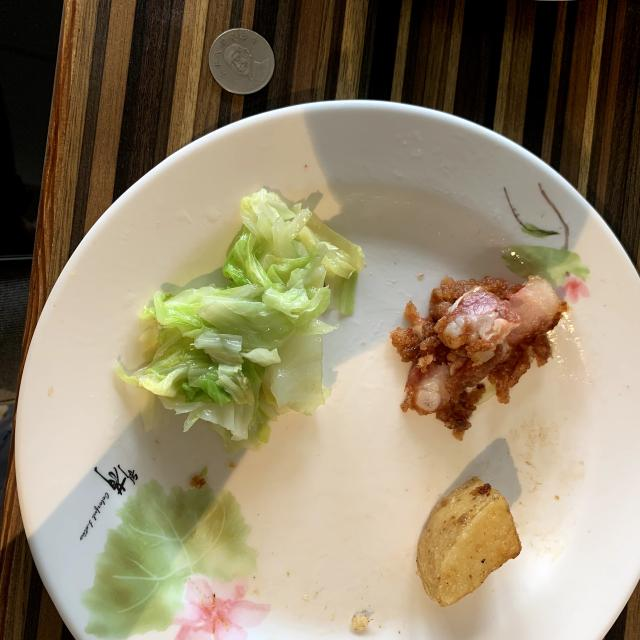cabbage: (116, 189, 364, 448)
coin: (209, 29, 275, 95)
fried potato: (416, 476, 521, 606)
red grilled pork: (390, 275, 568, 439)
